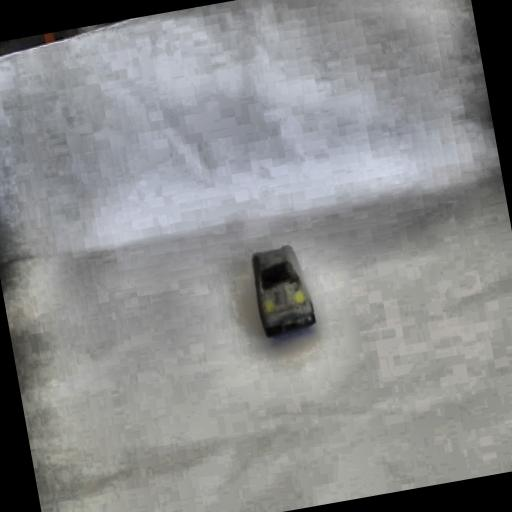normal_car: (244, 239, 322, 341)
